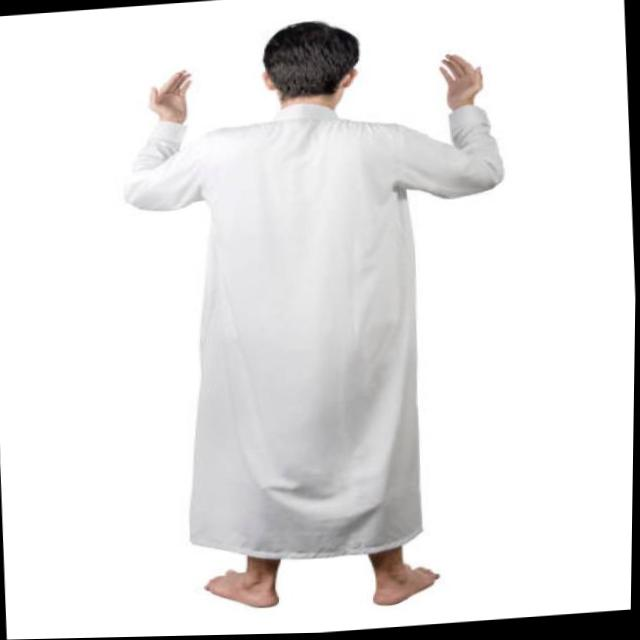no helmet: (229, 0, 401, 133)
